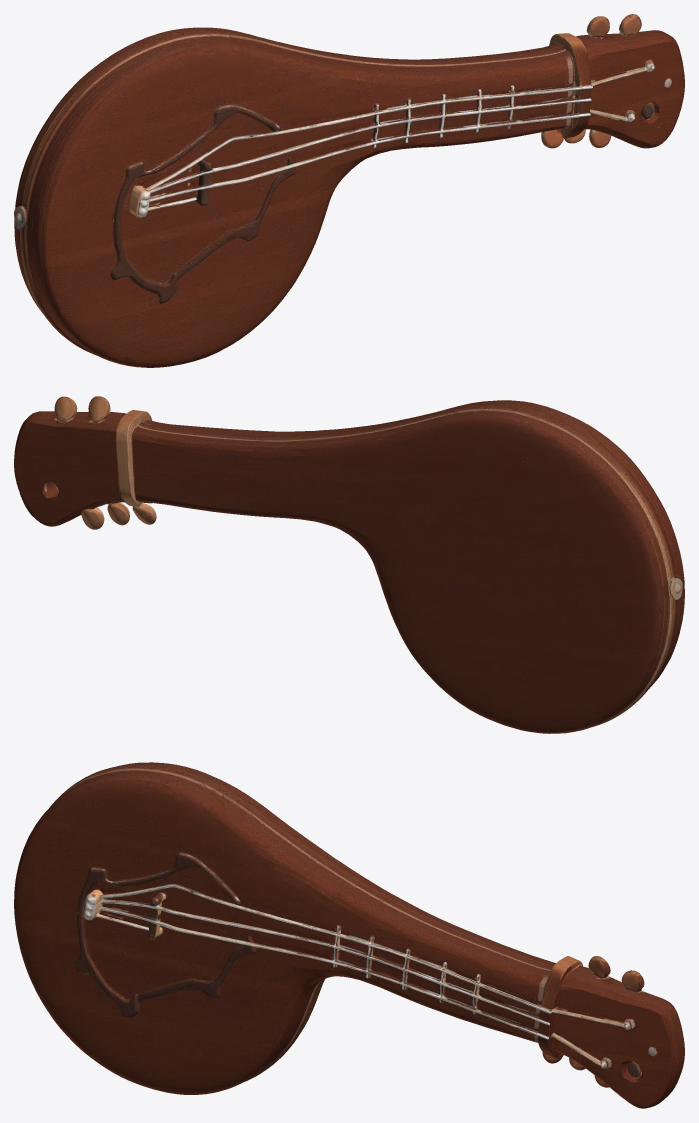
The model's file is dombra_hand_prop.glb.
The picture shows the model from 3 angles, top to bottom: view 1: azimuth 30°, elevation 25°; view 2: azimuth 150°, elevation 25°; view 3: azimuth 330°, elevation 25°; orthographic projection.
Parts seen in each view (by area): view 1: mesh_node; view 2: mesh_node; view 3: mesh_node.
Part boxes in pixels (x1,y1,x2,y2): mesh_node: (14, 14, 684, 367); mesh_node: (14, 396, 684, 733); mesh_node: (14, 762, 684, 1108).
Bounding box in the file's own units: 1.9 × 0.8697 × 0.2415.
Materials: 1 (1 with a texture image).
